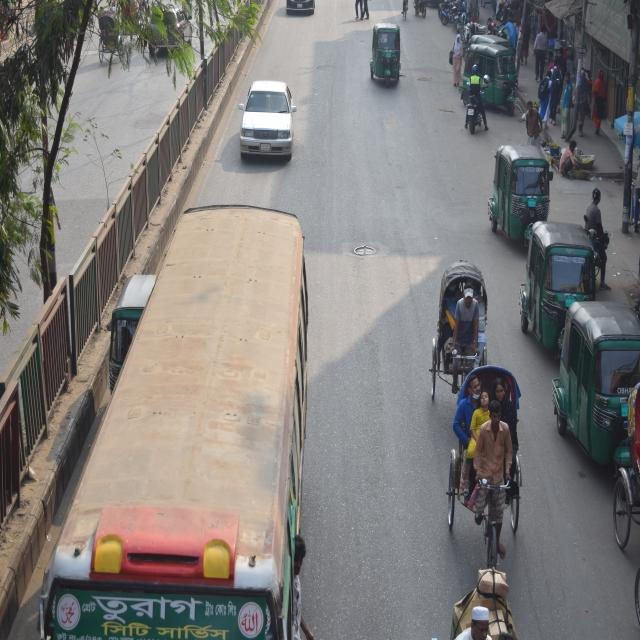bus: (38, 199, 328, 640)
car: (236, 76, 303, 162)
motorbike: (580, 209, 612, 283), (459, 65, 488, 133), (437, 0, 469, 31)
